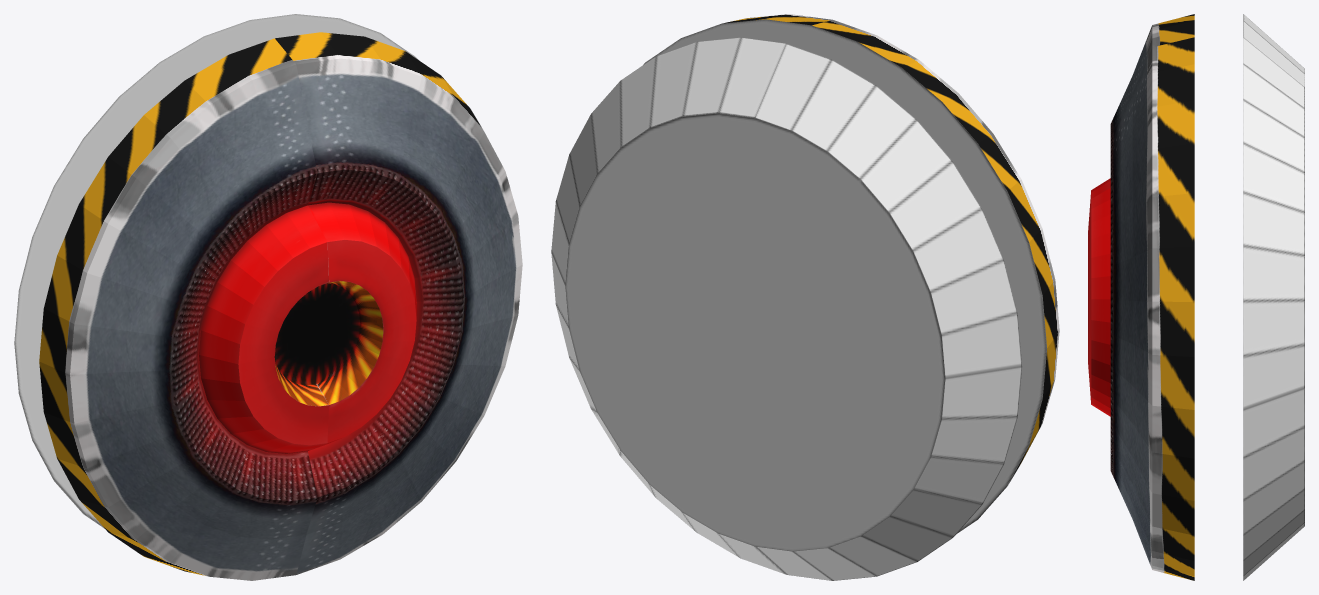
File: saw_robot.fbx
The picture shows the model from 3 angles, left to right: view 1: azimuth 30°, elevation 25°; view 2: azimuth 150°, elevation 25°; view 3: azimuth 270°, elevation 25°; orthographic projection. The views are drawn at different scales.
Visible parts, largest first — view 1: Cylinder.001; view 2: Cylinder.001; view 3: Cylinder.001.
Boxes of the visible parts, left/top/right/bottom form: Cylinder.001: left=14, top=14, right=522, bottom=580; Cylinder.001: left=551, top=14, right=1059, bottom=580; Cylinder.001: left=1088, top=14, right=1304, bottom=580.
Bounding box in the file's own units: 2 × 2.15 × 0.8125.
